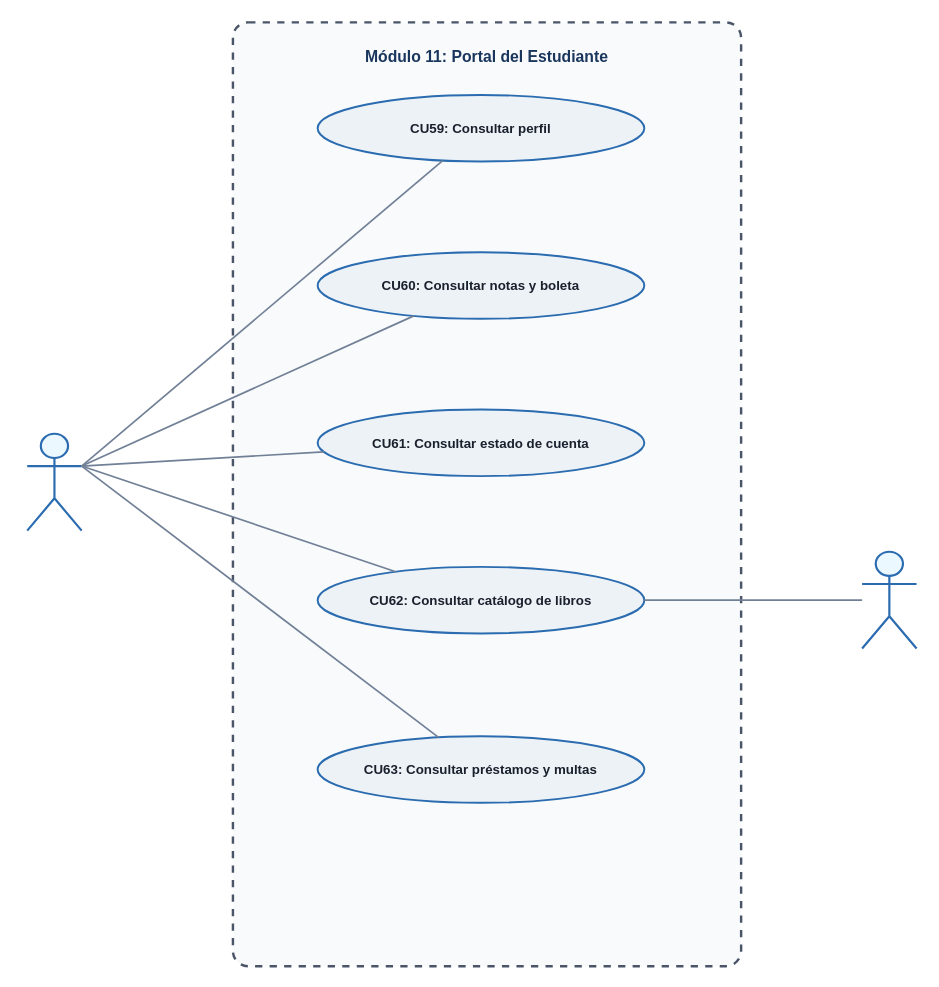
Image size: 939x987. Some labels were removed from this diagram. Here are the shapes that lost their labels. From the top down, the centre of each, then its label:
At pixel 54 481: "Estudiante".
At pixel 888 599: "Maestro".
